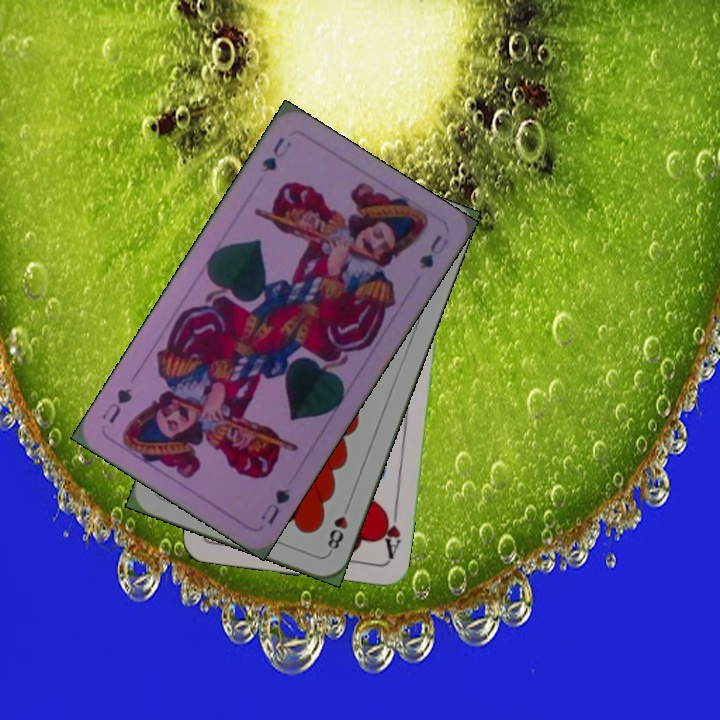GU: (256, 484, 293, 528), (258, 133, 295, 176)
H8: (323, 499, 353, 556)
HA: (377, 503, 403, 562)
